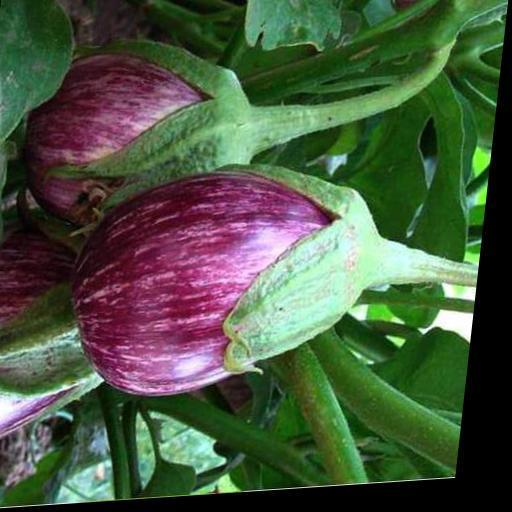eggplant: (0, 27, 457, 451), (63, 158, 480, 402), (38, 48, 443, 226)
